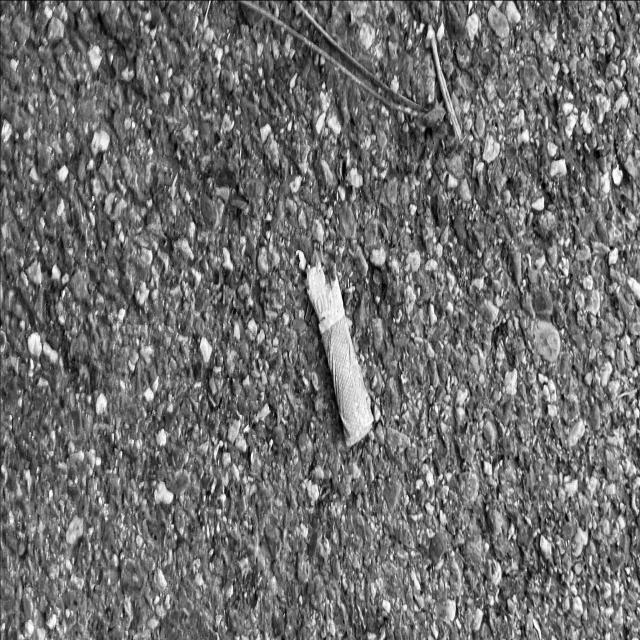other waste: (304, 243, 374, 450)
